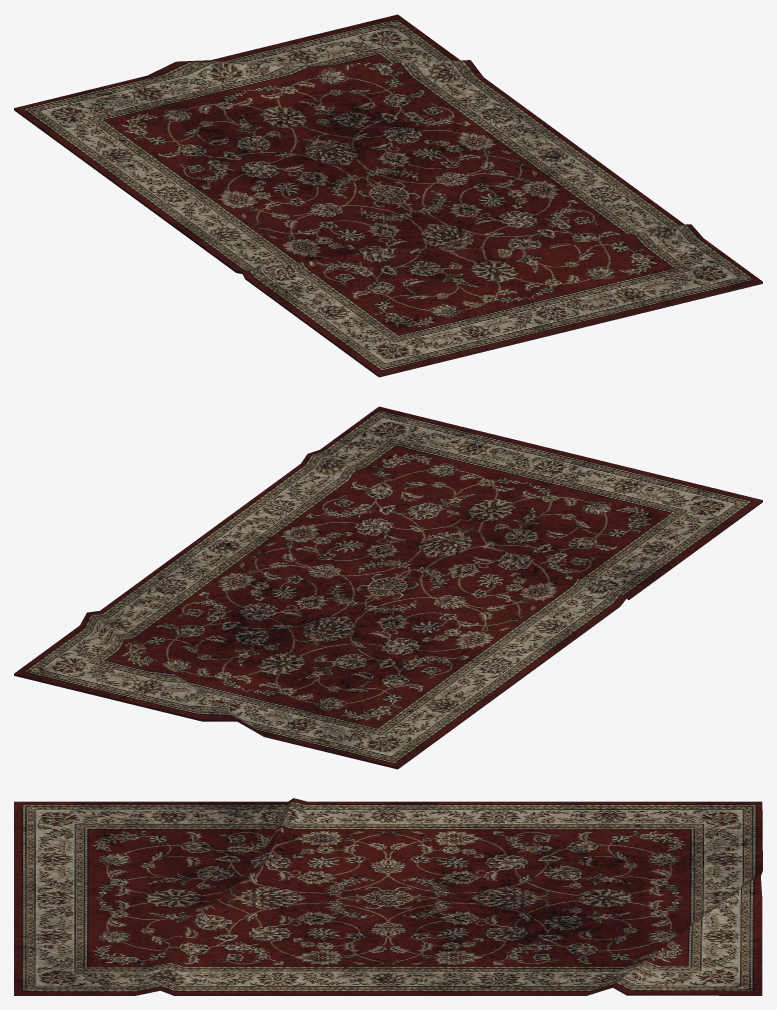
File: rug-runner.glb
3 views of the same model, one above another, from view 1: azimuth 30°, elevation 25°; view 2: azimuth 150°, elevation 25°; view 3: azimuth 270°, elevation 25° (orthographic). The views are drawn at different scales.
Visible parts, largest first — view 1: rug-runner; view 2: rug-runner; view 3: rug-runner.
Part boxes in pixels (x1,y1,x2,y2): rug-runner: (14,14,762,377); rug-runner: (14,406,762,769); rug-runner: (14,798,762,995).
Size of the model in its own units: 3.45 by 0.0858 by 5.68.
1 material, 1 textured.
